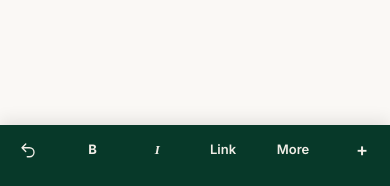
Test: ArticleMobileToolbar › offers an image and a divider under +
Click the button named "Insert".
click(362, 150)  # box [340, 128, 384, 172]
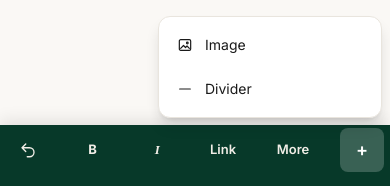
Click the button "Image".
click(270, 45)  # box [165, 23, 375, 67]
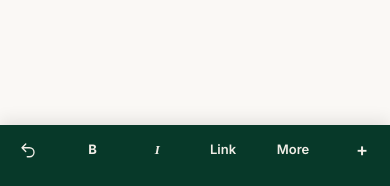
Check: the button "Divider" is gone
